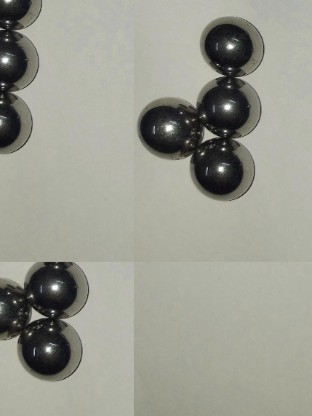ironball: (13, 321, 87, 390), (189, 138, 261, 207), (198, 15, 280, 75), (135, 91, 204, 162), (17, 259, 97, 318), (195, 78, 261, 136), (0, 266, 32, 349), (0, 90, 36, 162), (0, 32, 39, 98), (0, 0, 46, 33)
